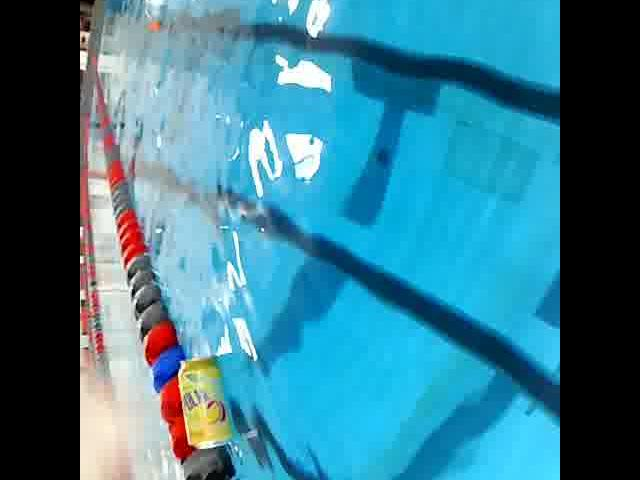Bottle: (141, 0, 169, 46)
Can: (169, 342, 240, 456)
